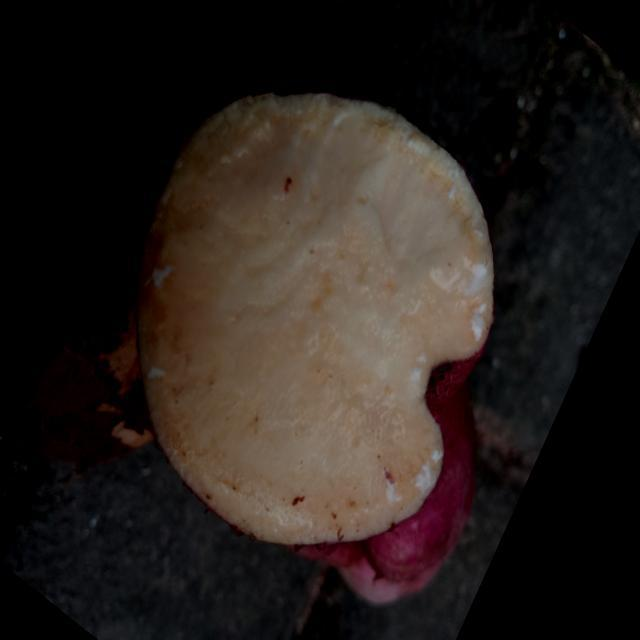Healthy Sweet Potato: (138, 93, 494, 545)
